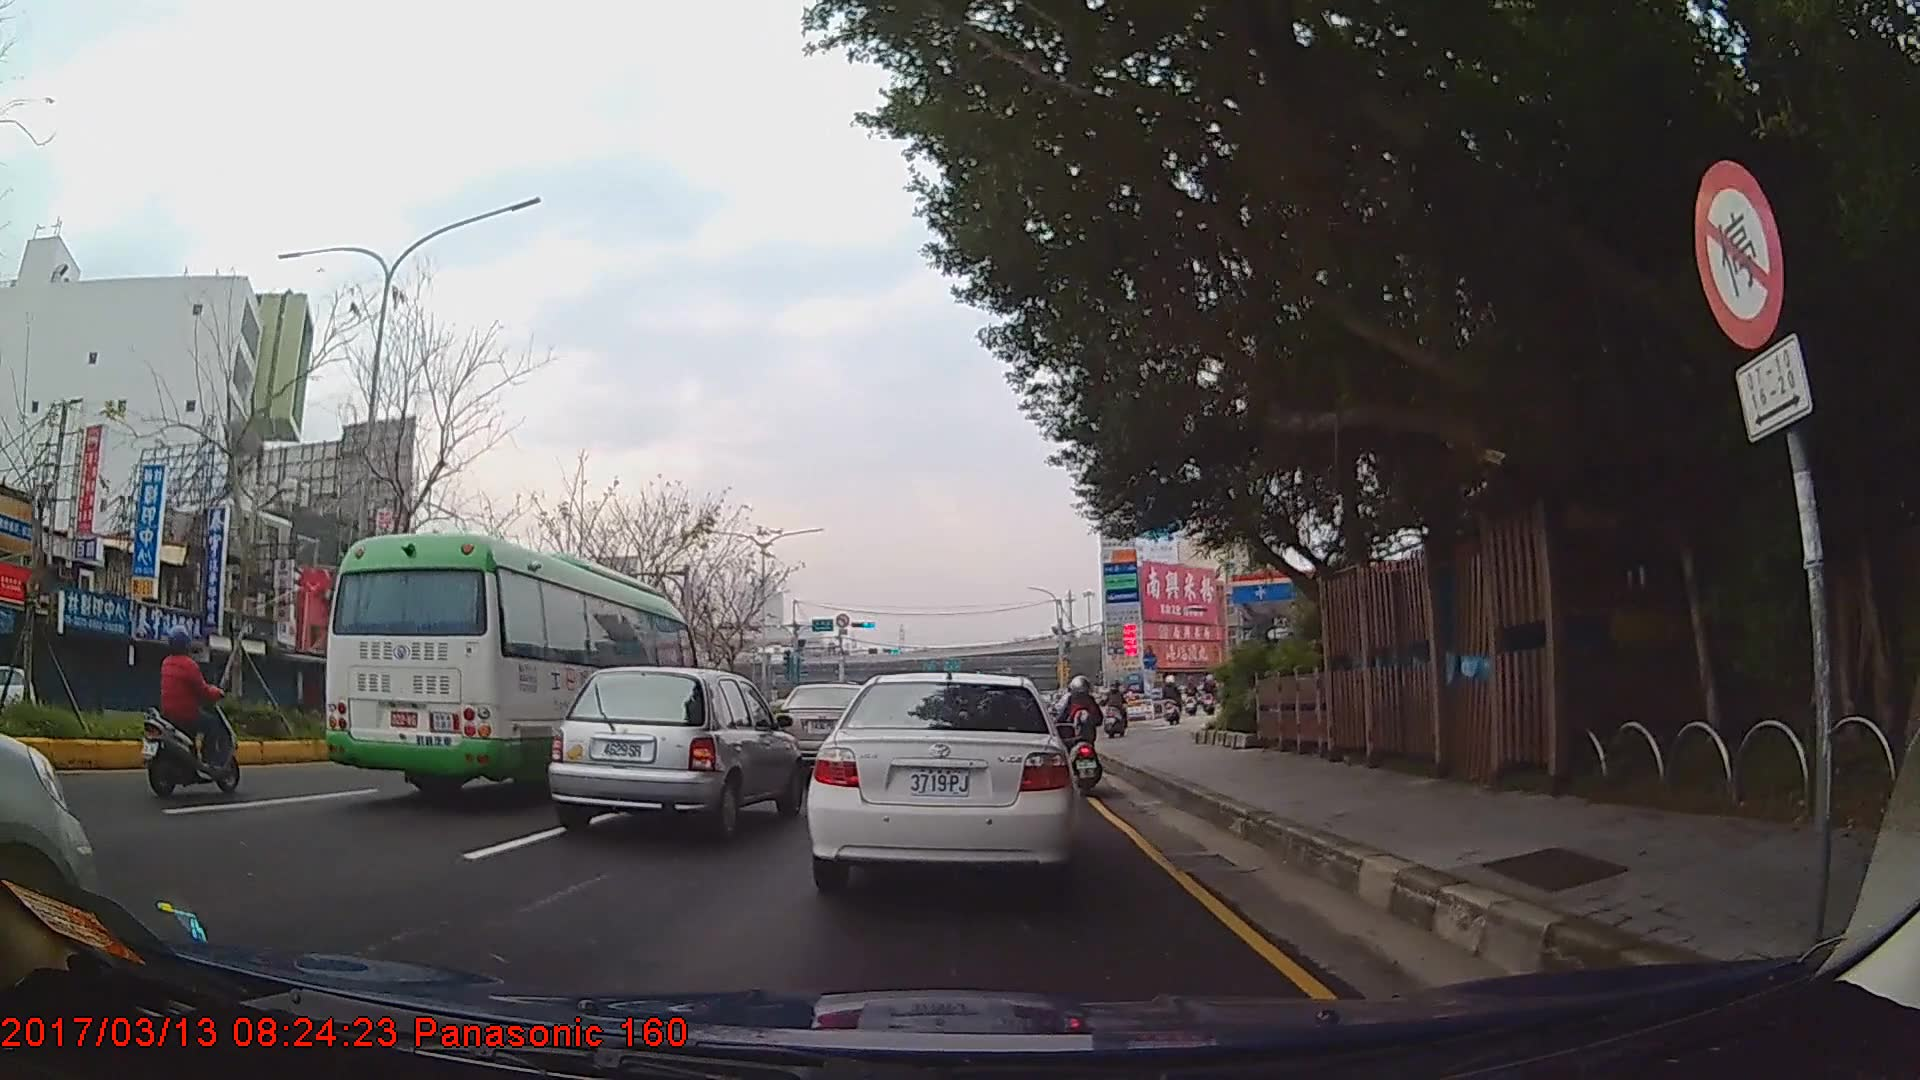rider: (146, 623, 247, 792), (1060, 672, 1104, 798), (1103, 677, 1132, 735), (1162, 675, 1183, 725)
vehicle: (323, 530, 699, 799), (804, 670, 1077, 893), (545, 660, 802, 837), (773, 678, 872, 769), (0, 661, 37, 725)
